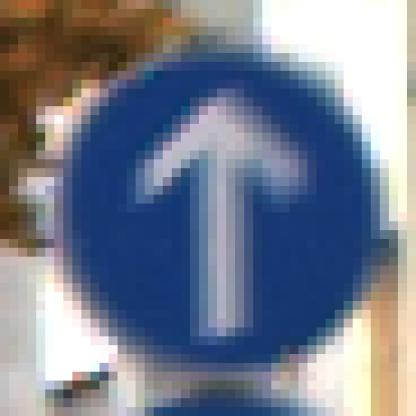AheadOnly: (46, 45, 372, 373)
